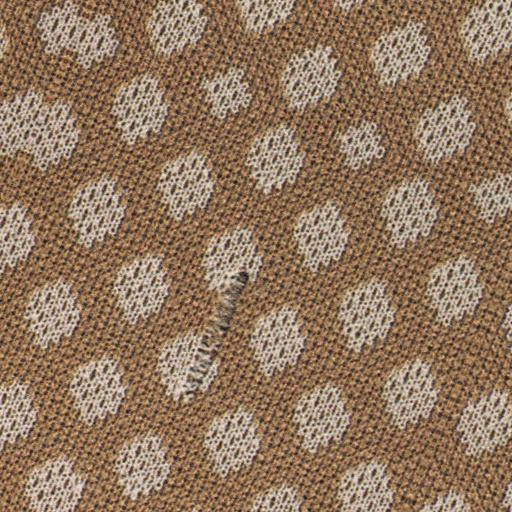slub: (167, 257, 279, 406)
